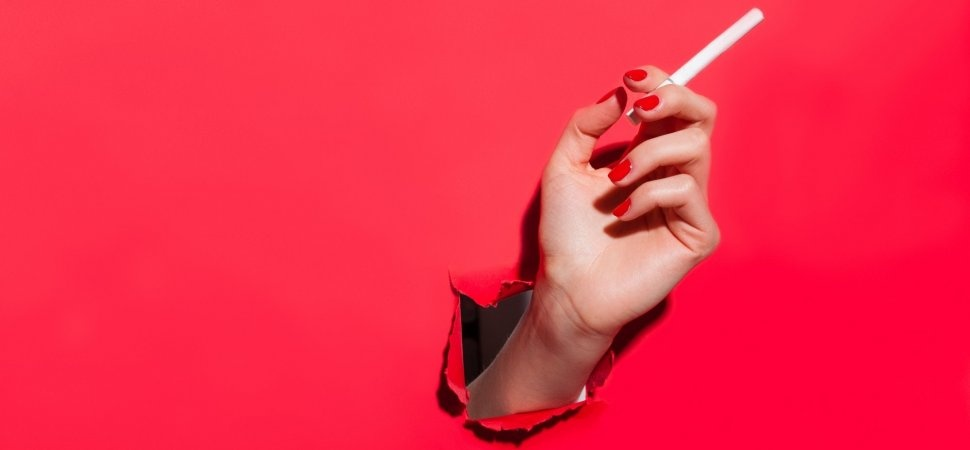sigaretta: (603, 9, 773, 124)
